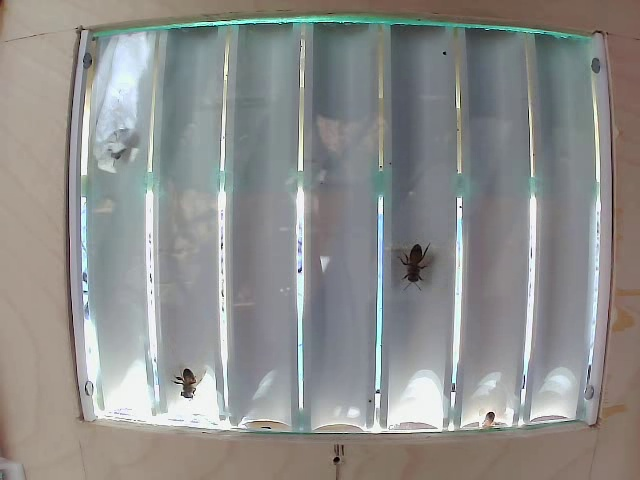bee: (388, 227, 447, 298), (161, 355, 209, 404)
